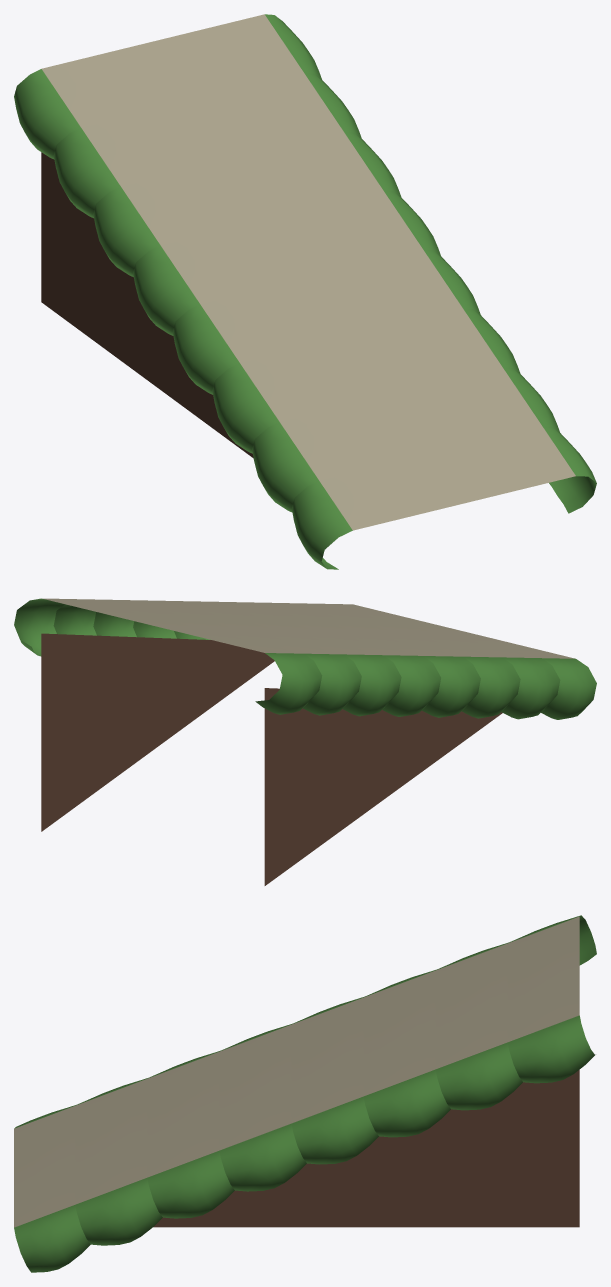
File: ForestTile_RampB.fbx
3 views of the same model, one above another, from view 1: azimuth 30°, elevation 25°; view 2: azimuth 150°, elevation 25°; view 3: azimuth 270°, elevation 25° (orthographic). The views are drawn at different scales.
Visible parts, largest first — view 1: ForestTile_RampB; view 2: ForestTile_RampB; view 3: ForestTile_RampB.
Part boxes in pixels (x1=…): ForestTile_RampB: x1=14, y1=14, x2=596, y2=569; ForestTile_RampB: x1=14, y1=598, x2=596, y2=885; ForestTile_RampB: x1=14, y1=915, x2=596, y2=1272.
Size of the model in its own units: 113 by 108 by 224.
